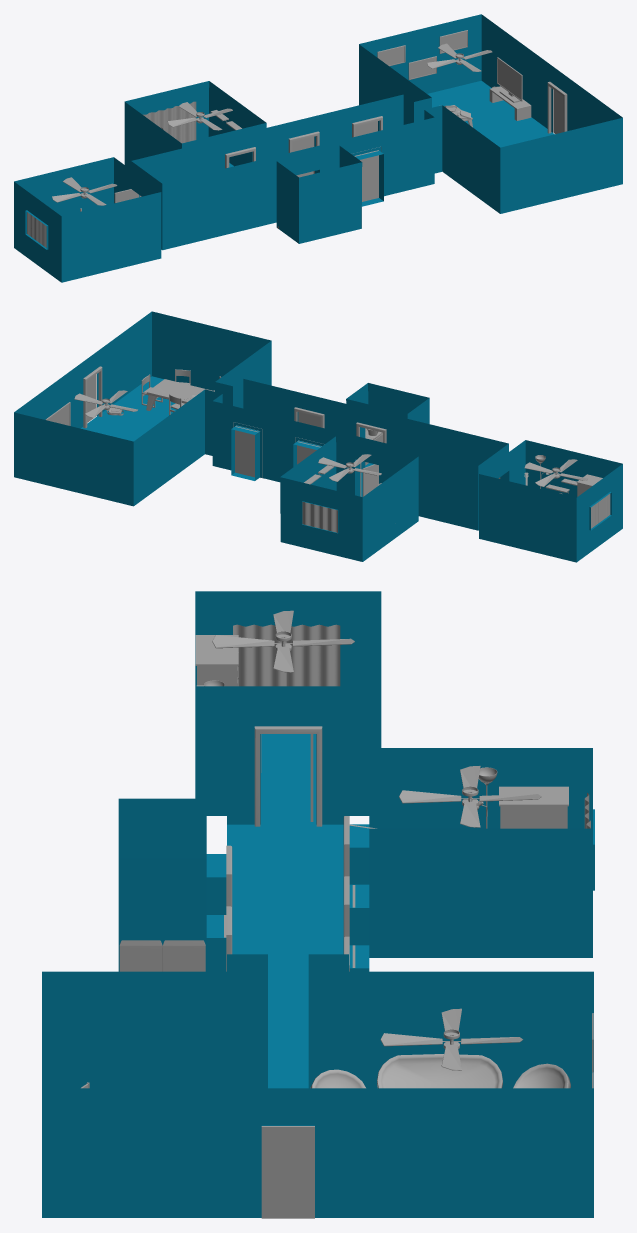
Rendered from dormRoom_5.fbx.
3 views of the same model, one above another, from view 1: azimuth 30°, elevation 25°; view 2: azimuth 150°, elevation 25°; view 3: azimuth 270°, elevation 25° (orthographic). The views are drawn at different scales.
Visible parts, largest first — view 1: dormRoom_W_O_Roof, curtain_05:curtainOpen, pCube9, television_02:tv, desk_04:deskStand, CeilingFan_02:rotaryBlades, CeilingFan_04:rotaryBlades, CeilingFan_03:rotaryBlades, pPipe7, posterFrame_04:pictureFrame, posterFrame_03:pictureFrame, posterFrame_05:pictureFrame (+1 smaller); view 2: dormRoom_W_O_Roof, pCube8, livingRoomTable_03:table, CeilingFan_02:rotaryBlades, CeilingFan_03:rotaryBlades, CeilingFan_04:rotaryBlades, pPipe7, curtain_05:curtainOpen, pCube10, curtain_06:curtainOpen; view 3: dormRoom_W_O_Roof, pCube12, couch_02:couch, curtain_03:curtainOpen, curtain_04:curtainOpen, CeilingFan_02:rotaryBlades, CeilingFan_03:rotaryBlades, CeilingFan_04:rotaryBlades, pPipe6, dresser_13:dresserBody, dresser_14:dresserBody, WasherDryer_02:DryerUnit (+2 smaller).
Part boxes in pixels (x1,y1,x2,y2): dormRoom_W_O_Roof: (14,14,622,282); curtain_05:curtainOpen: (167,101,196,143); pCube9: (355,150,378,201); television_02:tv: (497,57,522,101); desk_04:deskStand: (489,86,531,120); CeilingFan_02:rotaryBlades: (167,102,232,130); CeilingFan_04:rotaryBlades: (427,43,492,71); CeilingFan_03:rotaryBlades: (52,177,117,205); pPipe7: (547,81,567,133); posterFrame_04:pictureFrame: (408,56,436,79); posterFrame_03:pictureFrame: (377,45,405,66); posterFrame_05:pictureFrame: (439,30,467,53); dormRoom_W_O_Roof: (14,311,622,562); pCube8: (235,426,258,477); livingRoomTable_03:table: (146,379,214,403); CeilingFan_02:rotaryBlades: (318,454,381,481); CeilingFan_03:rotaryBlades: (524,459,588,486); CeilingFan_04:rotaryBlades: (74,390,137,418); pPipe7: (83,366,102,428); curtain_05:curtainOpen: (302,501,322,528); pCube10: (362,464,378,496); curtain_06:curtainOpen: (322,506,337,532); dormRoom_W_O_Roof: (42,591,594,1217); pCube12: (261,1126,314,1218); couch_02:couch: (377,1054,502,1088); curtain_03:curtainOpen: (286,624,340,686); curtain_04:curtainOpen: (233,624,286,686); CeilingFan_02:rotaryBlades: (399,766,541,827); CeilingFan_03:rotaryBlades: (212,610,354,672); CeilingFan_04:rotaryBlades: (380,1008,523,1070); pPipe6: (254,726,322,826); dresser_13:dresserBody: (195,635,238,686); dresser_14:dresserBody: (499,786,568,828); WasherDryer_02:DryerUnit: (119,940,162,971).
Size of the model in its own units: 11561 by 1420 by 5398.
